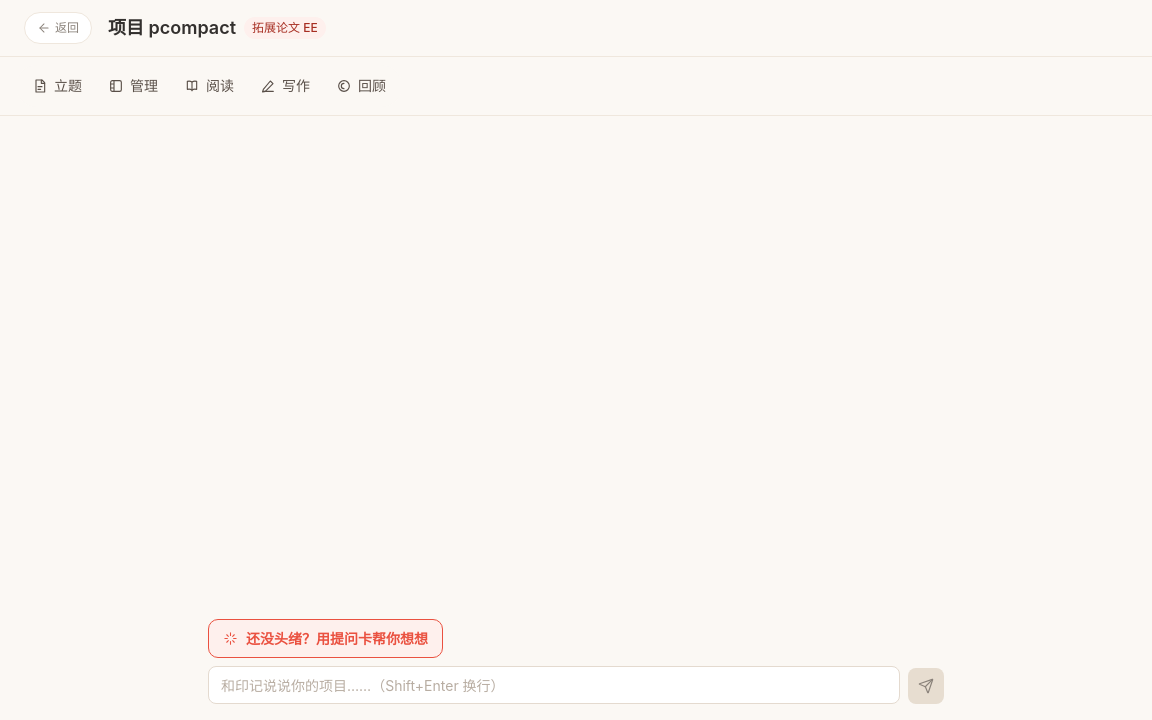
Test: WorkspaceContainer › a reply with compacted:true appends the 已整理较早的对话 hint
The width and height of the screenshot is (1152, 720).
Type "接着之前聊的" into the text box with placeholder "和印记说说你的项目……（Shift+Enter 换行）" at {"x": 554, "y": 685}, box [208, 666, 900, 704]
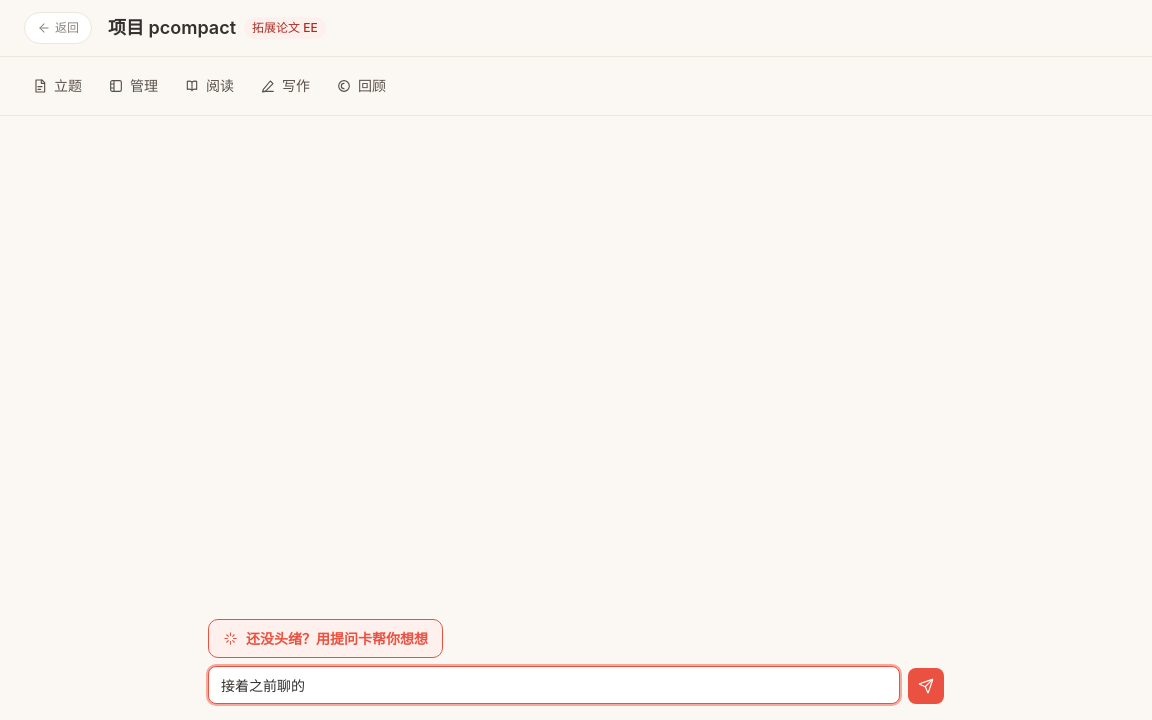
Click the button named "发送" at {"x": 926, "y": 686}, box [908, 668, 944, 704]
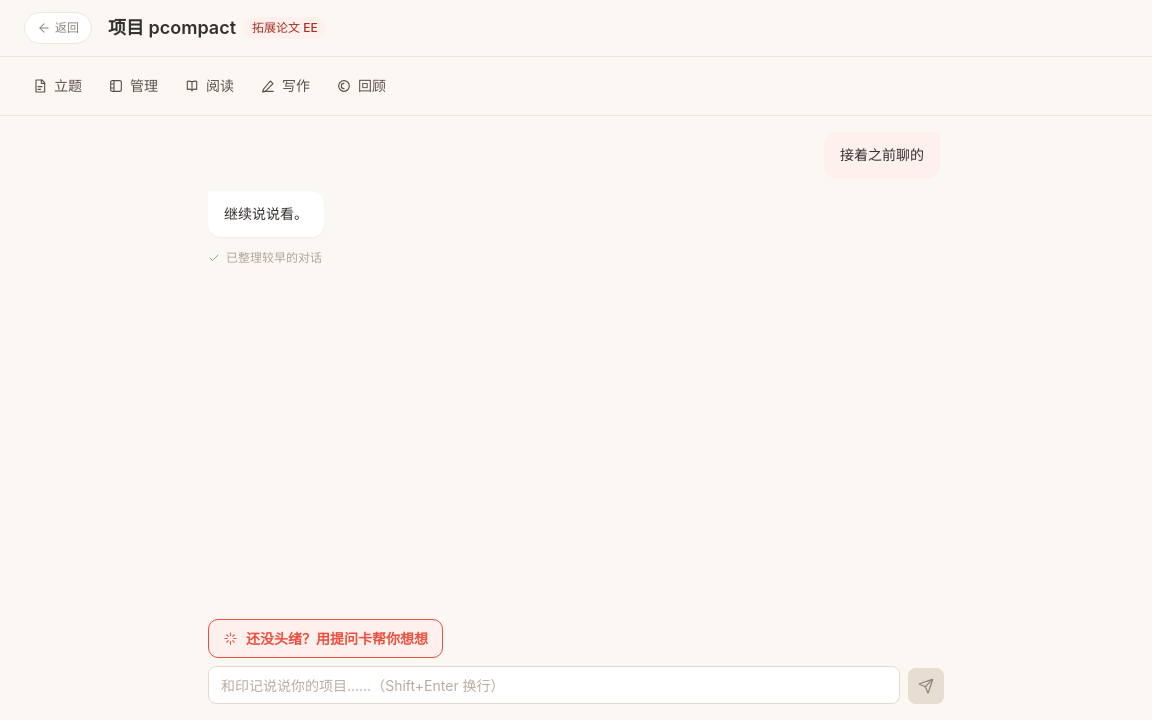
Check: the text "继续说说看。" is shown, box [224, 203, 308, 225]
Check: the text "已整理较早的对话" is shown, box [226, 249, 322, 267]
